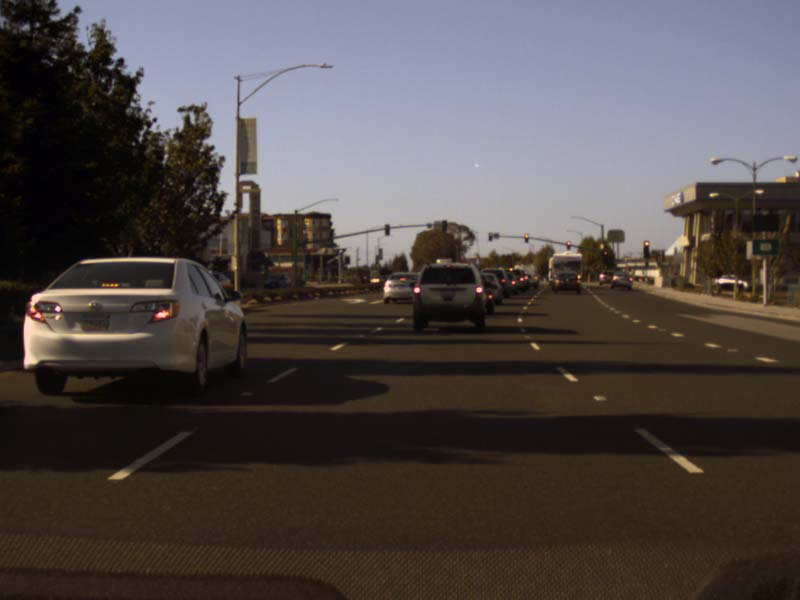Red: (642, 240, 649, 258), (602, 249, 607, 262), (524, 234, 529, 242), (566, 240, 570, 250)
Yellow: (488, 232, 492, 240)
